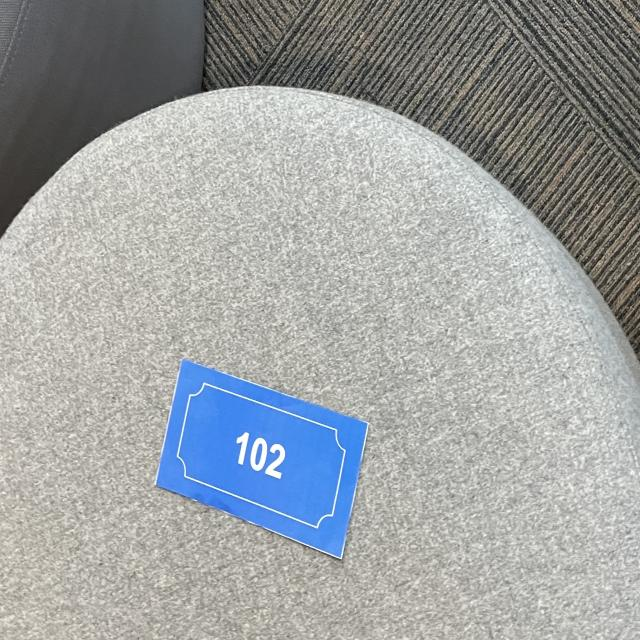Card: (139, 337, 384, 582)
